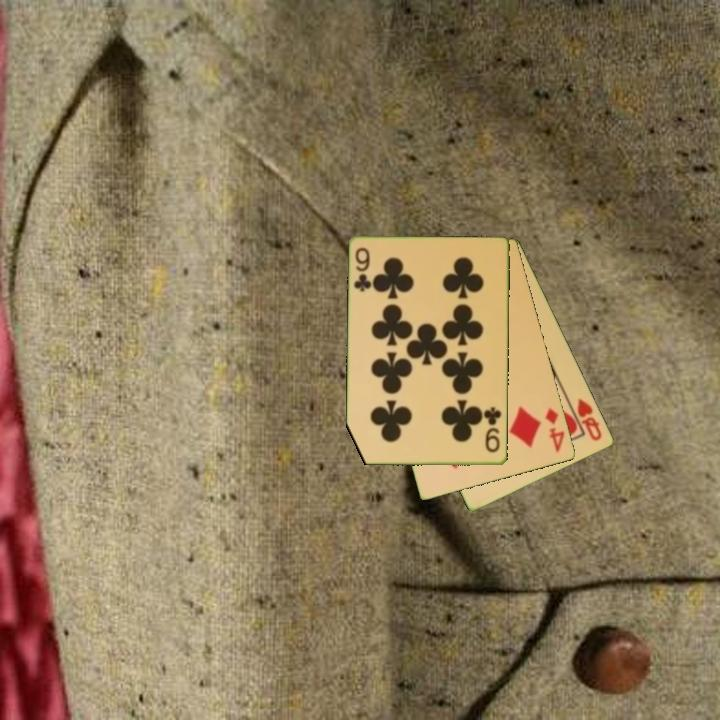4d: (542, 404, 568, 456)
9c: (481, 404, 504, 455), (351, 244, 374, 295)
Qh: (574, 395, 605, 444)
